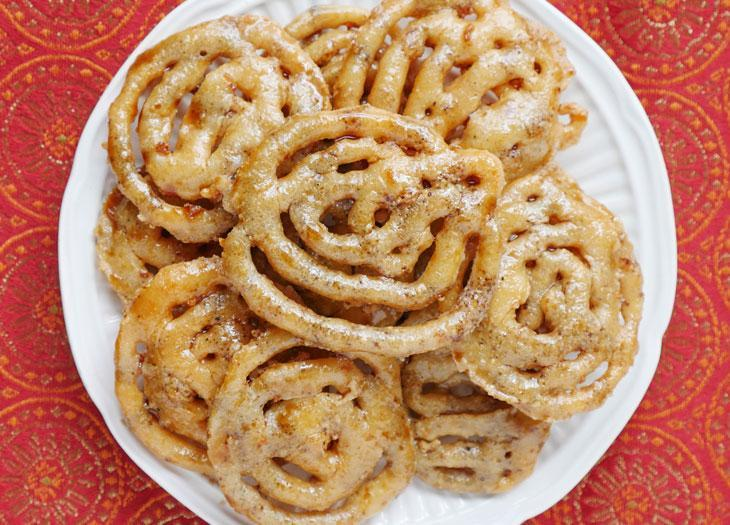jalebi: (106, 6, 639, 507)
